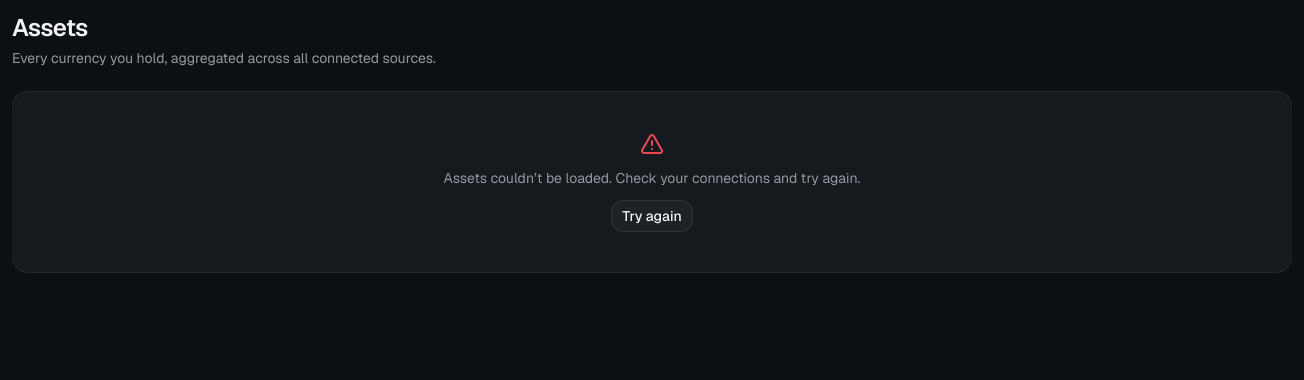
Test case: AssetsPage › shows an error state and retries the API request
The width and height of the screenshot is (1304, 380).
Expected: the message shows "Assets couldn’t be loaded", x1=444 y1=169 x2=860 y2=187
Step 1. Click the button "Try again" → (652, 216), box x1=611 y1=200 x2=693 y2=232
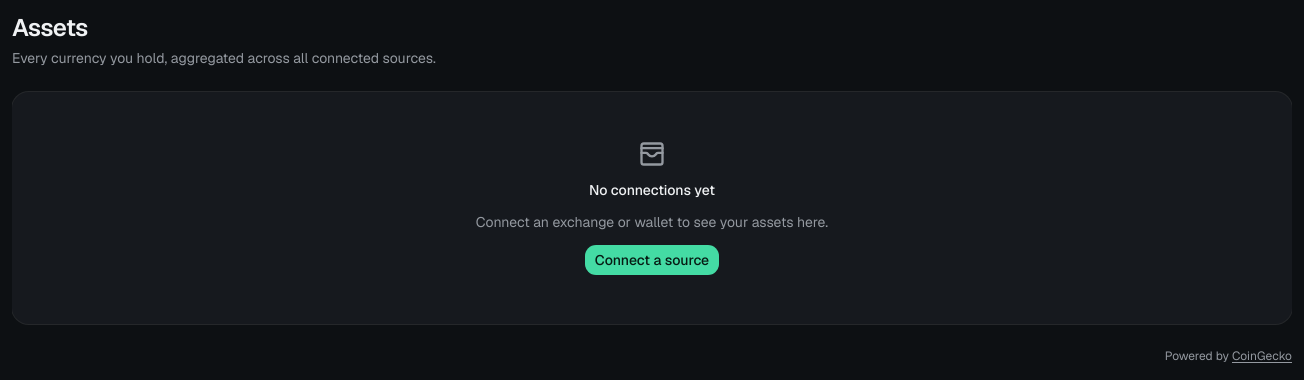
Now the text "No connections yet" is shown, box x1=589 y1=180 x2=715 y2=200
